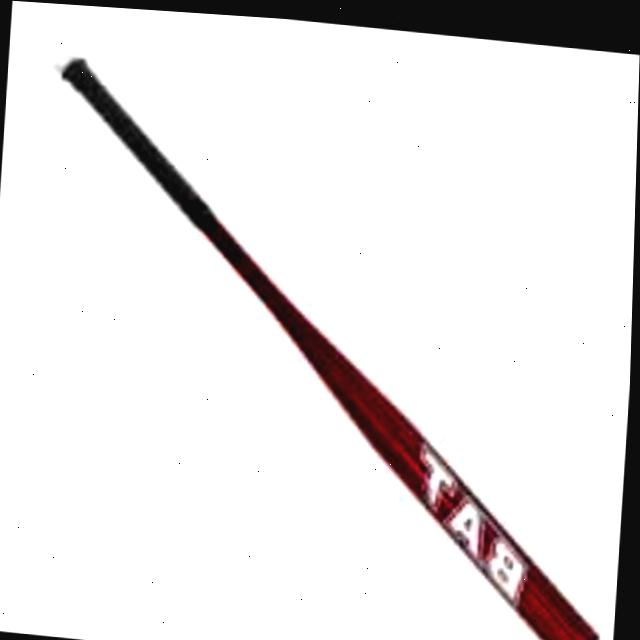baseball bat: (57, 49, 611, 640)
